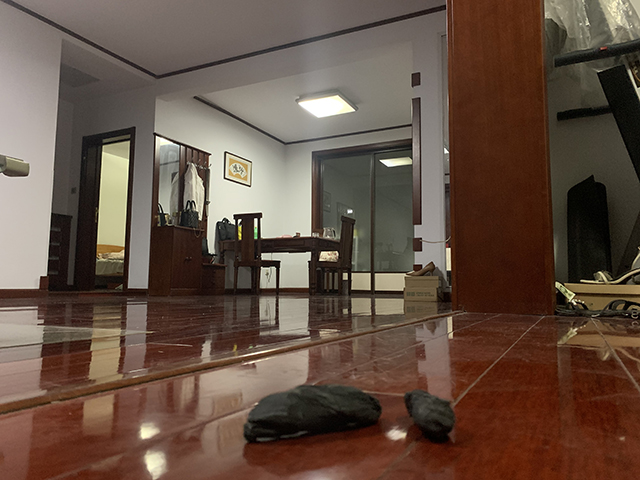cabinet: (147, 223, 228, 297)
feces: (243, 382, 384, 445), (403, 389, 456, 440)
stool: (231, 212, 282, 295), (307, 214, 356, 296)
table: (218, 235, 340, 294)
